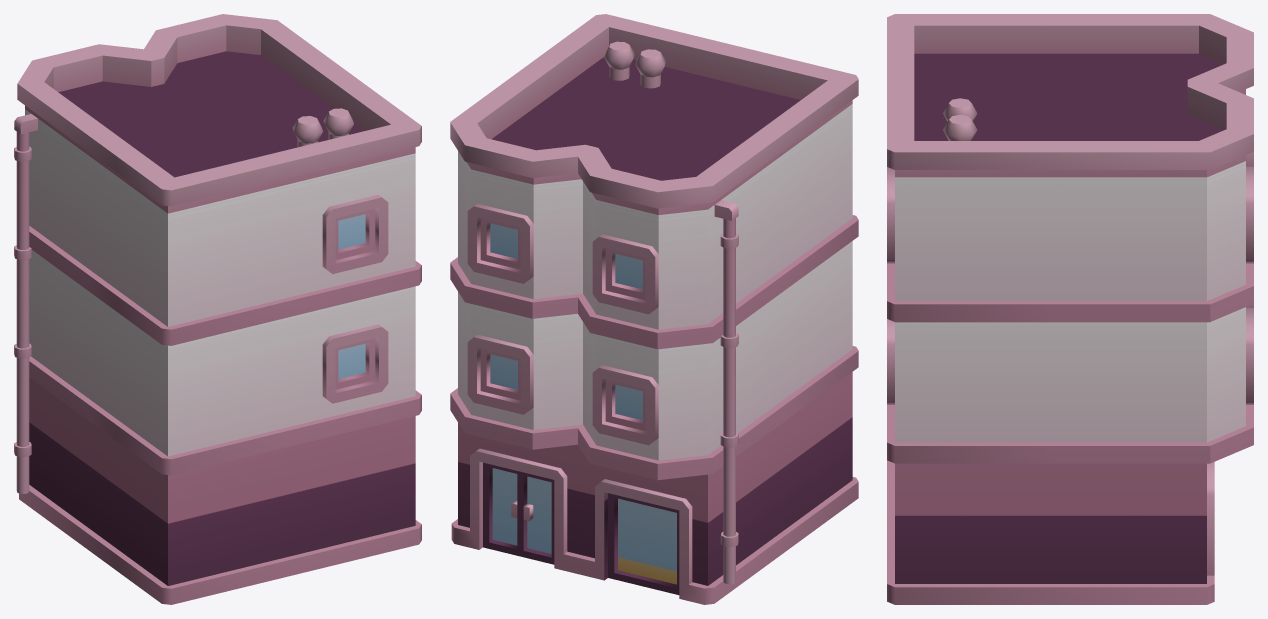
The model's file is shop_3story_flat.obj.
3 views of the same model, side by side, from view 1: azimuth 30°, elevation 25°; view 2: azimuth 150°, elevation 25°; view 3: azimuth 270°, elevation 25° (orthographic). The views are drawn at different scales.
Parts seen in each view (by area): view 1: building-a; view 2: building-a; view 3: building-a.
Part boxes in pixels (<box>): building-a: <box>14,14,421,604</box>; building-a: <box>450,14,858,604</box>; building-a: <box>887,14,1253,604</box>.
Size of the model in its own units: 17.67 by 25.86 by 18.8.
1 material, 1 textured.
